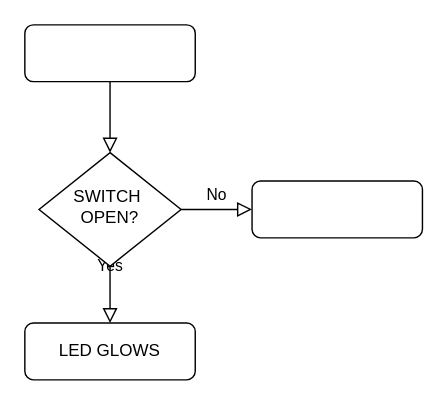
Some shapes in this 447 by 405 pixel diagram are drawn without their labels. The shapes that lost their labels are listed below. From the top down, each one's centre as x and y in pixels, then its label:
the point at 109,52: 5V DC
the point at 336,209: LED DOESN'T GLOW
